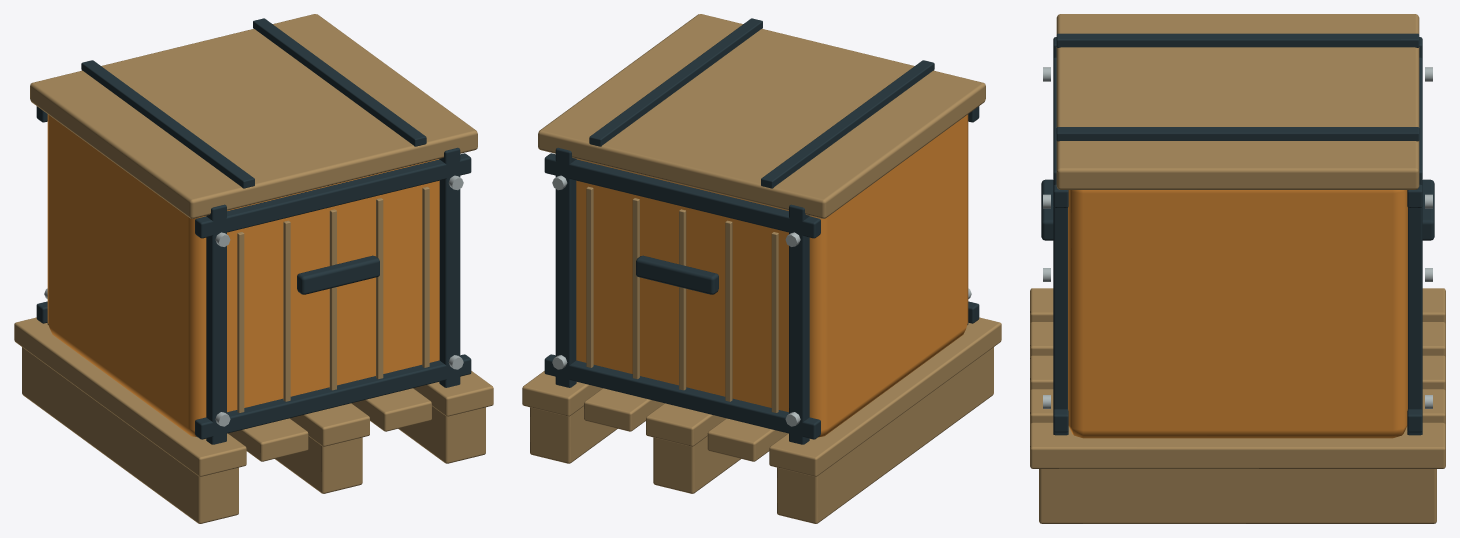
File: energy-twin-obstacle-detailed.glb
3 renders of one model, left to right at view 1: azimuth 30°, elevation 25°; view 2: azimuth 150°, elevation 25°; view 3: azimuth 270°, elevation 25°, orthographic. The views are drawn at different scales.
Visible parts, largest first — view 1: crate-8a5c3c0f, crate-db5f96cc, crate-64e42267, crate-a351d70c; view 2: crate-8a5c3c0f, crate-db5f96cc, crate-64e42267, crate-a351d70c; view 3: crate-8a5c3c0f, crate-db5f96cc, crate-64e42267, crate-a351d70c.
Part boxes in pixels (x1,y1,x2,y2): crate-8a5c3c0f: (14,14,493,523); crate-db5f96cc: (47,114,439,437); crate-64e42267: (36,18,471,444); crate-a351d70c: (44,175,463,426); crate-8a5c3c0f: (522,14,1001,523); crate-db5f96cc: (576,114,968,437); crate-64e42267: (544,18,979,444); crate-a351d70c: (552,175,971,426); crate-8a5c3c0f: (1030,14,1445,523); crate-db5f96cc: (1068,190,1407,438); crate-64e42267: (1041,33,1434,435); crate-a351d70c: (1043,67,1432,408).
Bounding box in the file's own units: 0.86 × 0.907 × 0.94.
